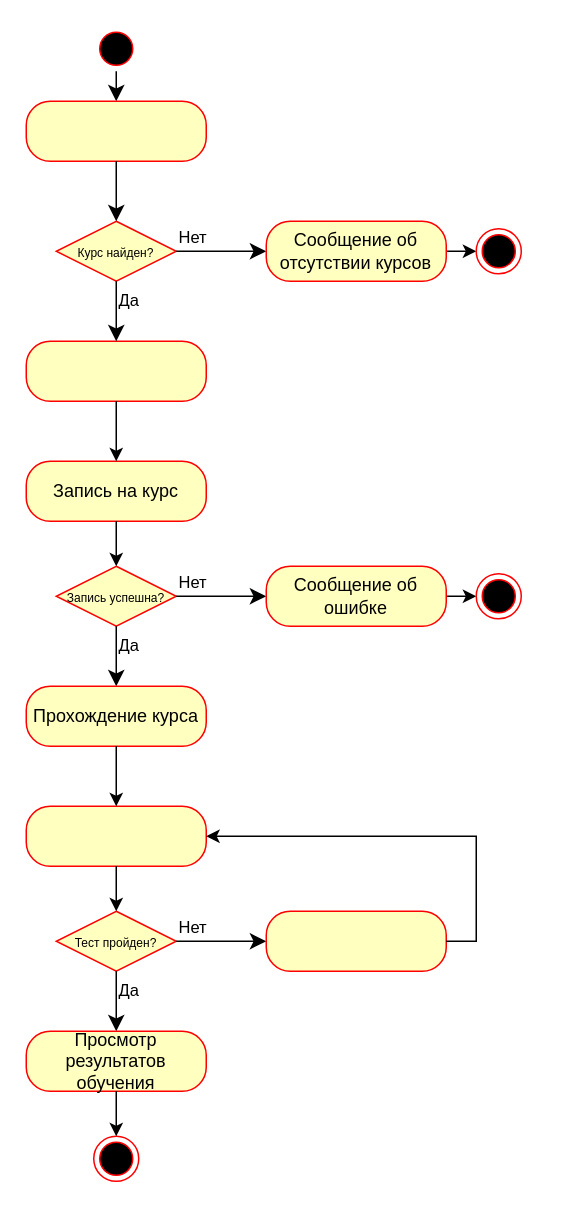
The diagram is 578 pixels wide and 1208 high, and some of its shapes have lost their labels. Each missing label, with the box of its shape:
Повторное прохождение теста: (265, 910, 446, 971)
Поиск курса: (25, 100, 206, 161)
Просмотр информации о курсе: (25, 340, 206, 401)
Прохождение тестирования: (25, 805, 206, 866)
